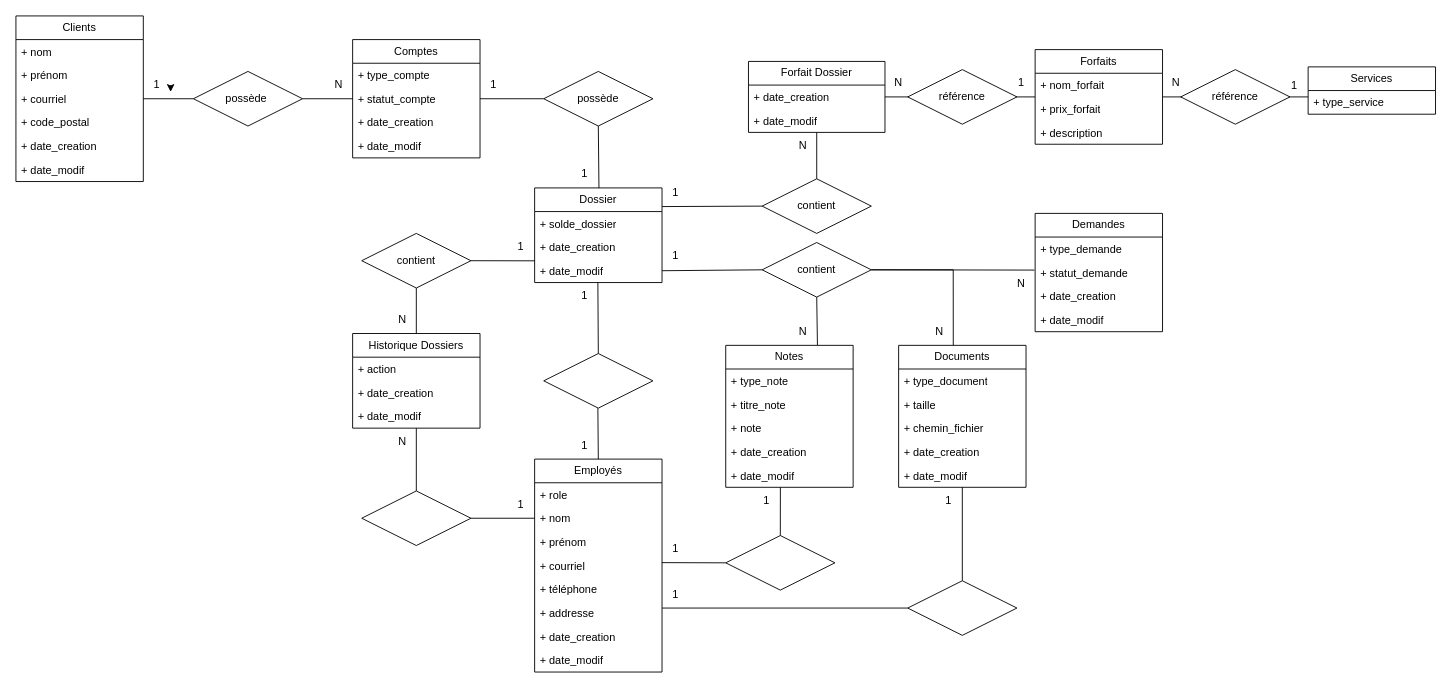
The diagram is 1451 pixels wide and 691 high, and some of its shapes have lost their labels. Each missing label, with the centre of its shape:
créé par: (598,380)
dépose: (962,607)
est associé à: (416,518)
écrit: (780,562)
